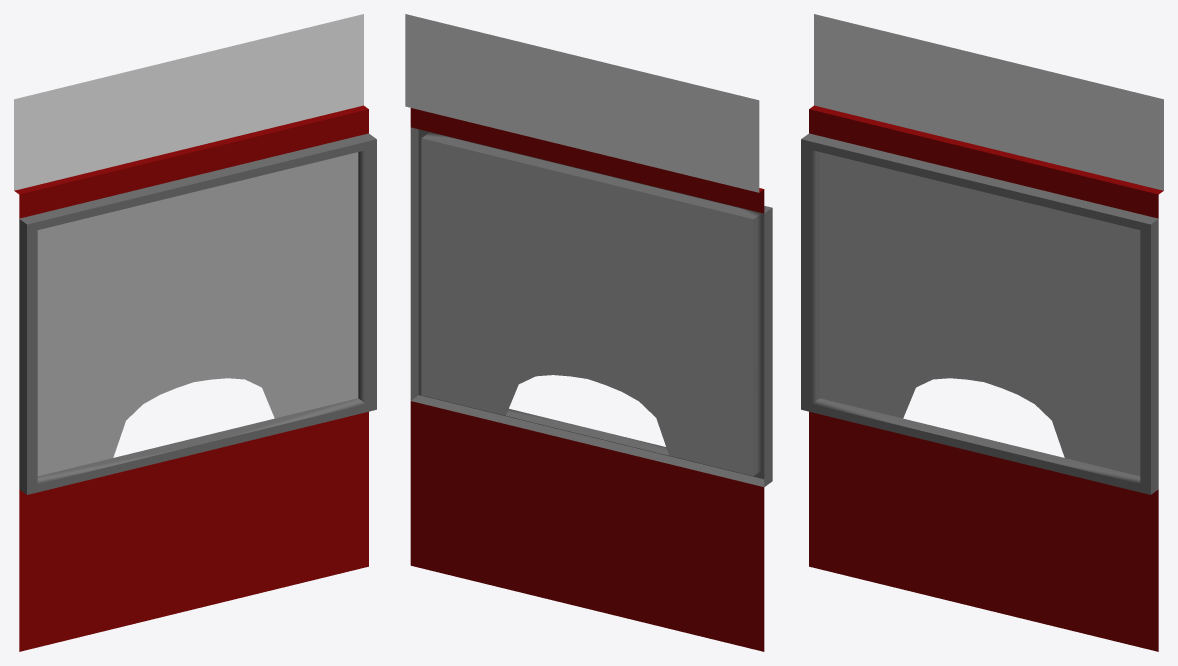
The model's file is Wall Ticket 1.fbx.
The picture shows the model from 3 angles, left to right: view 1: azimuth 30°, elevation 25°; view 2: azimuth 150°, elevation 25°; view 3: azimuth 330°, elevation 25°; orthographic projection.
Parts seen in each view (by area): view 1: Plane.079; view 2: Plane.079; view 3: Plane.079.
Part boxes in pixels (x1,y1,x2,y2): Plane.079: [14, 14, 376, 651]; Plane.079: [405, 14, 772, 651]; Plane.079: [801, 14, 1163, 651].
Size of the model in its own units: 4 by 6 by 0.2583.
